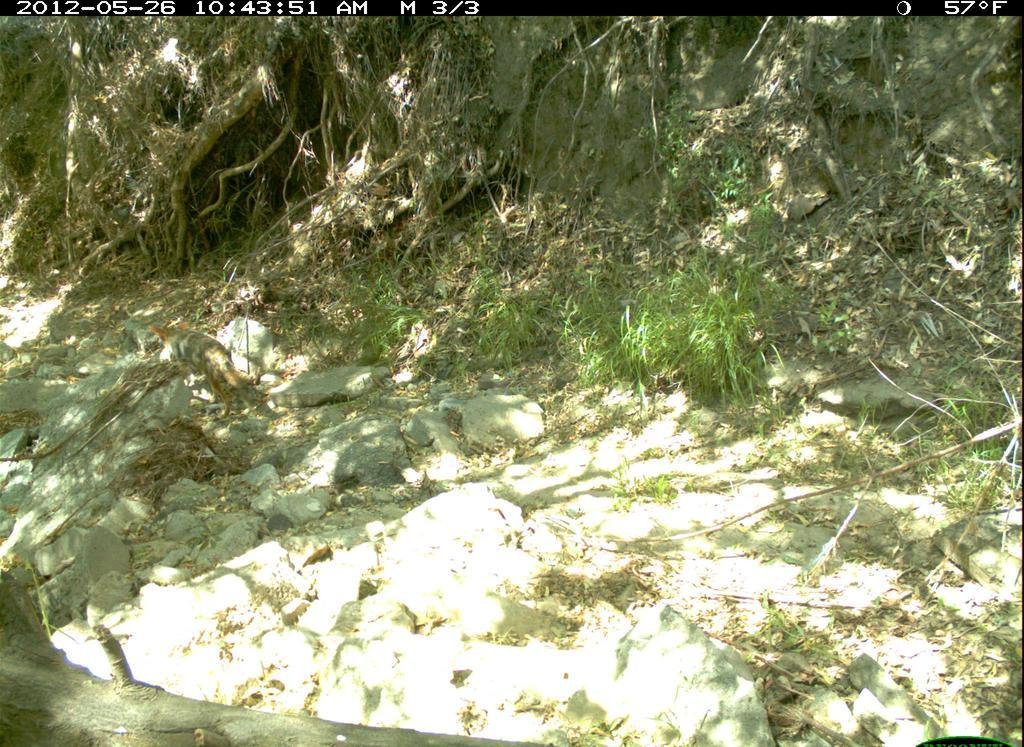coyote: (148, 315, 263, 415)
